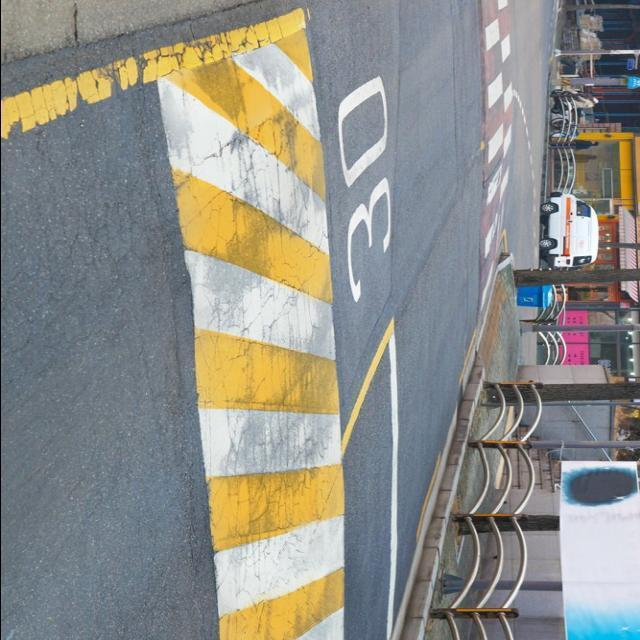speedbreaker: (150, 0, 362, 640)
